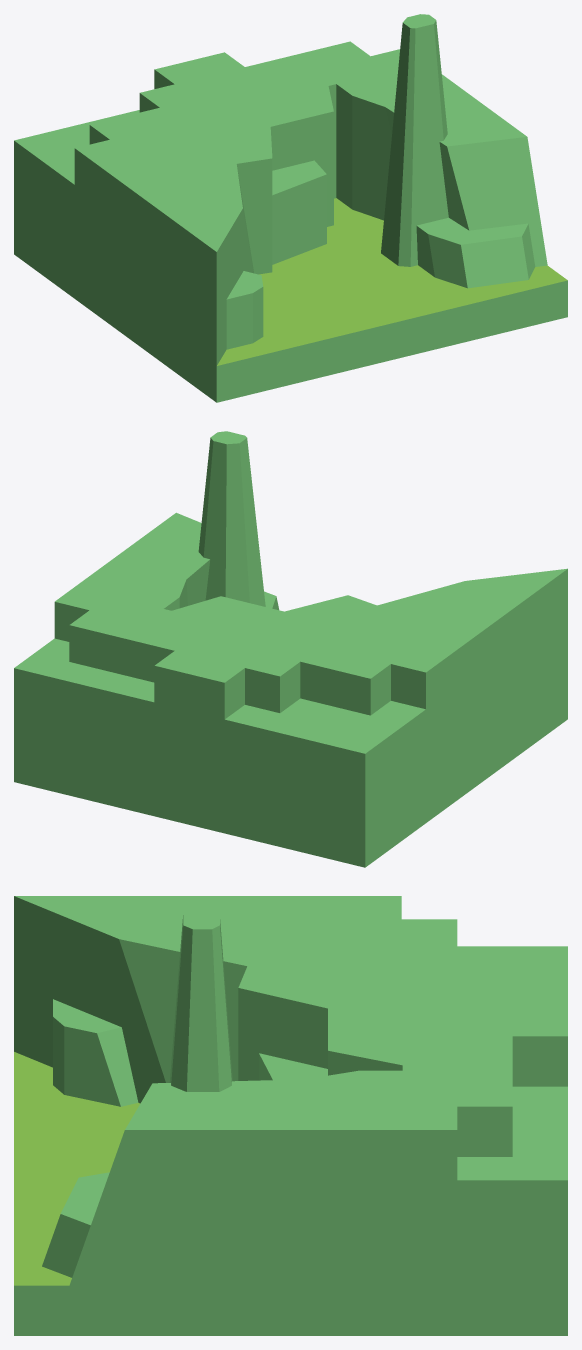
The model's file is x_zem_1_10_1_rmstrd.fbx.
3 renders of one model, top to bottom at view 1: azimuth 30°, elevation 25°; view 2: azimuth 150°, elevation 25°; view 3: azimuth 270°, elevation 25°, orthographic. The views are drawn at different scales.
Parts seen in each view (by area): view 1: x_zem_1_10_1_rmstrd1; view 2: x_zem_1_10_1_rmstrd1; view 3: x_zem_1_10_1_rmstrd1.
Part boxes in pixels (x1,y1,x2,y2): x_zem_1_10_1_rmstrd1: [14, 14, 567, 402]; x_zem_1_10_1_rmstrd1: [14, 431, 567, 867]; x_zem_1_10_1_rmstrd1: [14, 896, 567, 1335].
Size of the model in its own units: 10 by 7.22 by 10.
